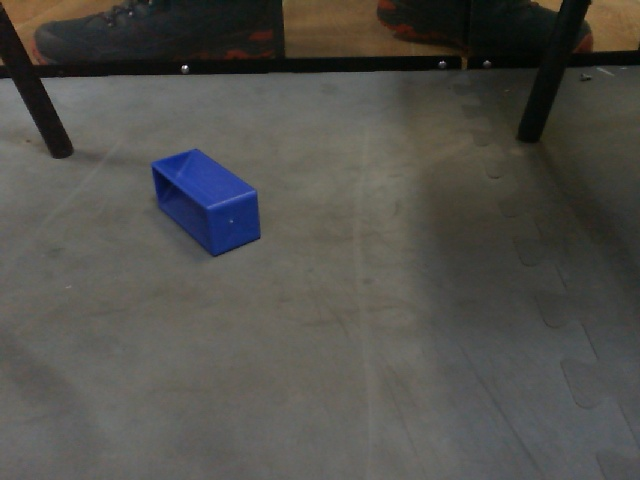BlueSample: (146, 145, 267, 258)
